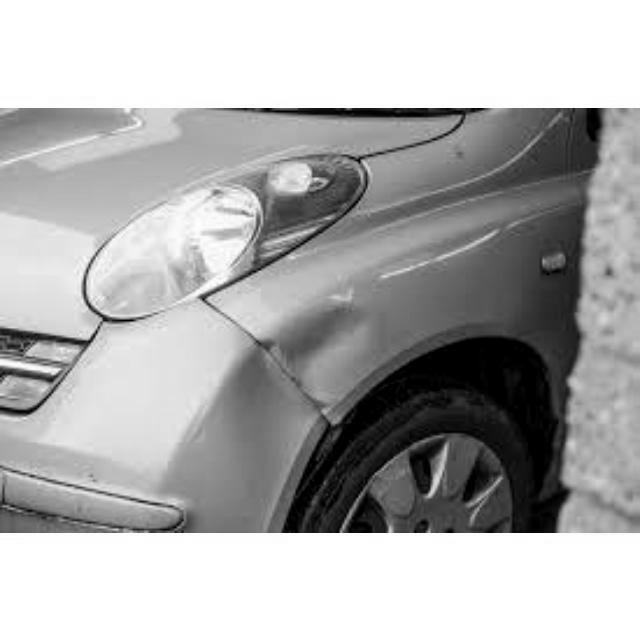fender-dent: (263, 147, 593, 442)
